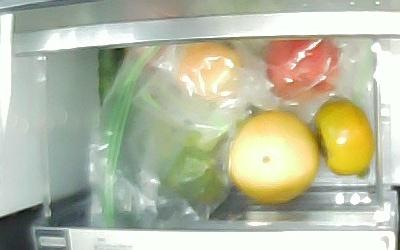apple_vinyl: (263, 38, 340, 100)
broccoli_vinyl: (165, 132, 224, 204)
cucumber_vinyl: (97, 49, 135, 228)
grapefruit: (229, 110, 319, 204)
peach_vinyl: (176, 42, 242, 101)
persimmon: (315, 97, 373, 176)
